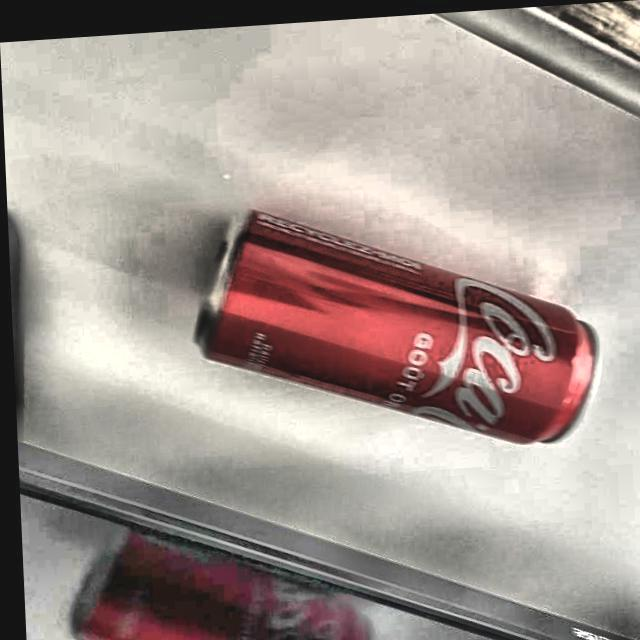can: (177, 178, 598, 464)
